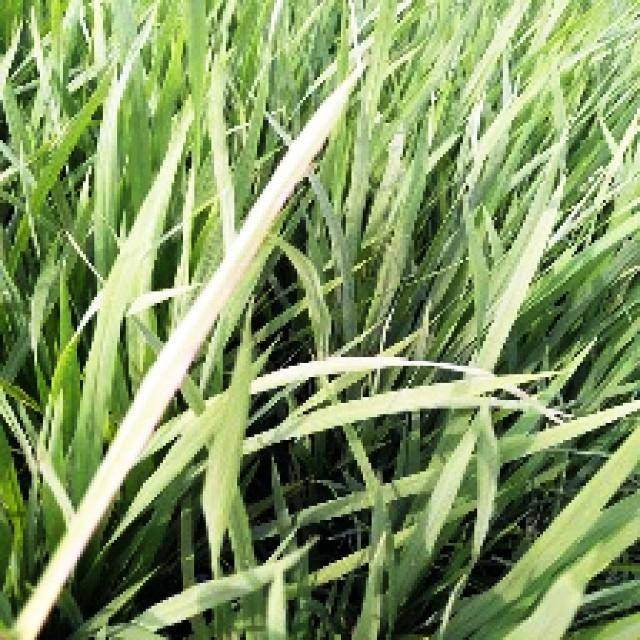unhealth: (5, 63, 365, 640)
